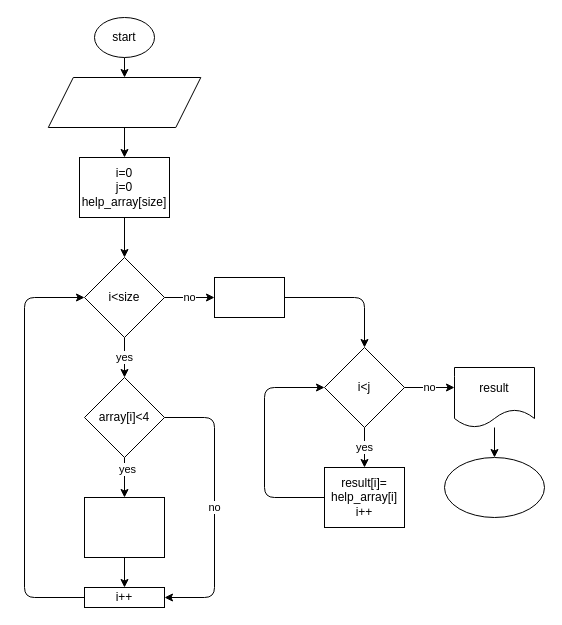
Image size: 562x625. Some labels were removed from this diagram. The centre of each missing label's shape, as x and y in pixels:
"help_array[j]= array[i] j++" belongs at [124,527].
"i=0 result[j]" belongs at [249,297].
"size array[size]" belongs at [124,102].
"конец" belongs at [494,487].
